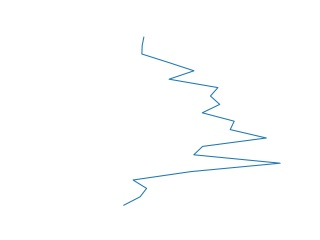floodSwamp: (121, 36, 288, 206)
